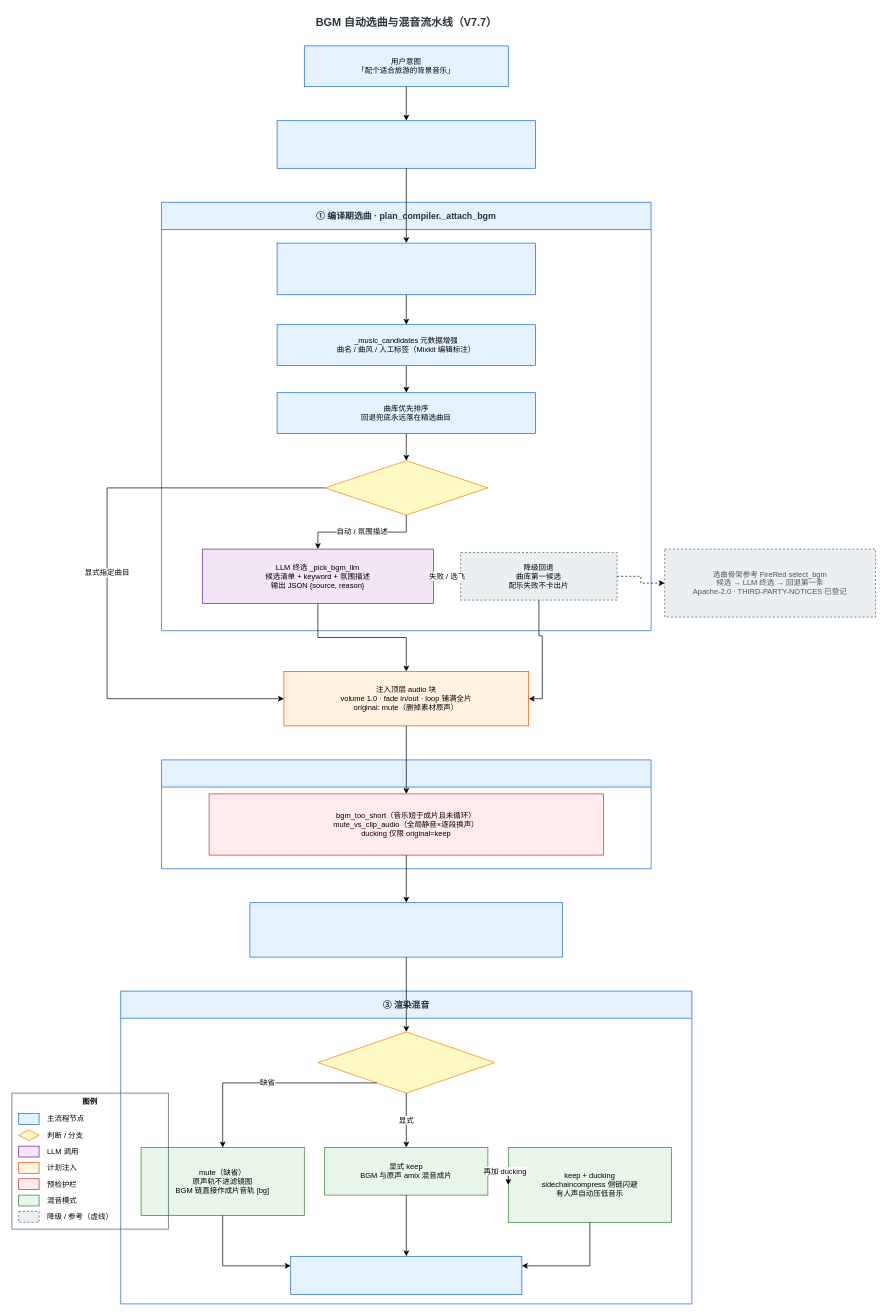
Some shapes in this 887 by 1316 pixel diagram are drawn without their labels. The shapes that lost their labels are listed below. From the top down, each one's box as (x1, y1, x2, y2) in pixels, then its label:
(276, 120, 536, 168): 主模型 · 意图表达 翻译成 workflow.bgm（氛围描述 / 曲目路径） 或显式顶层 audio 块
(276, 242, 536, 295): _gather_ctx 候选发现 MUSIC/ 曲库 39 首 + INPUT/ 纯音频 ffprobe 按流分类 · 真实时长
(324, 460, 488, 515): 意图分档
(161, 759, 651, 869): ② 预检护栏 · plan_schema
(249, 902, 563, 957): 逐段控声 · clip.audio（归一化阶段） mute 本段静音 / source 换声（循环铺满）/ volume 与 cut_silence 互斥
(317, 1031, 495, 1093): original 模式
(290, 1256, 522, 1294): 渲染成片 + 回验 report.bgm 审计（selection / reason / style）
